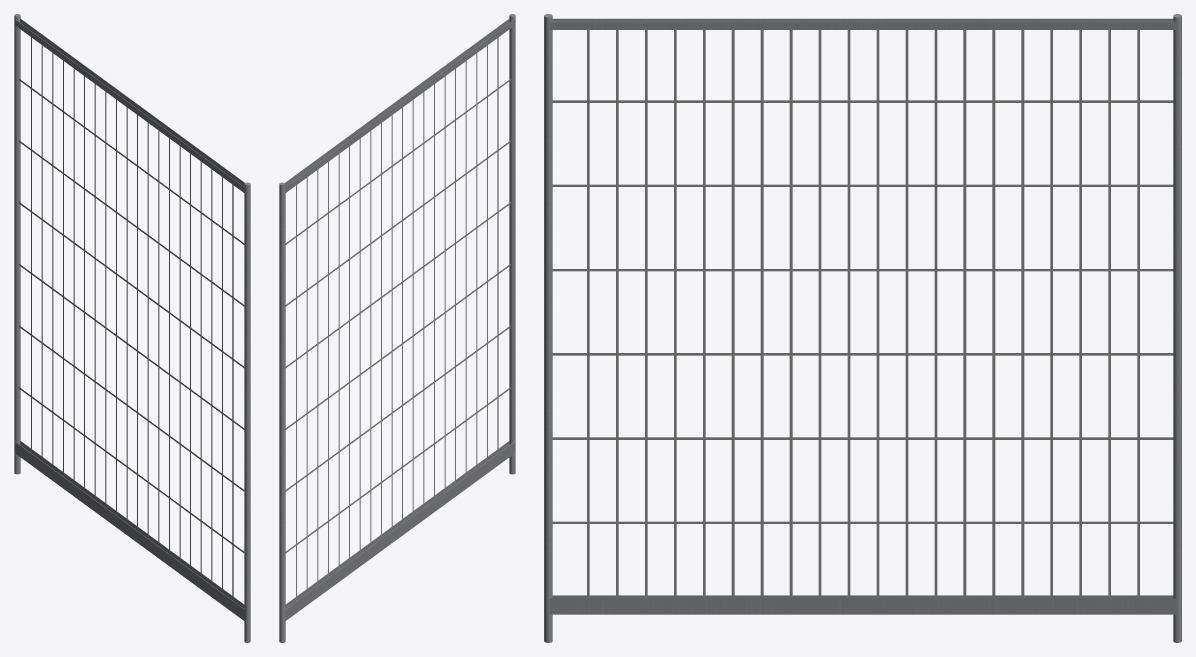
Rendered from SM_Fence_Panel_Long.FBX.
3 renders of one model, left to right at view 1: azimuth 30°, elevation 25°; view 2: azimuth 150°, elevation 25°; view 3: azimuth 270°, elevation 25°, orthographic. The views are drawn at different scales.
Parts seen in each view (by area): view 1: Fence_Panel_Long_LOD0; view 2: Fence_Panel_Long_LOD0; view 3: Fence_Panel_Long_LOD0.
Boxes of the visible parts, x1,y1,x2,y2 form: Fence_Panel_Long_LOD0: (14,14,250,642); Fence_Panel_Long_LOD0: (279,14,515,642); Fence_Panel_Long_LOD0: (544,14,1181,642).
Size of what is drawn, in the model's own units: 0.025 by 2 by 1.85.
